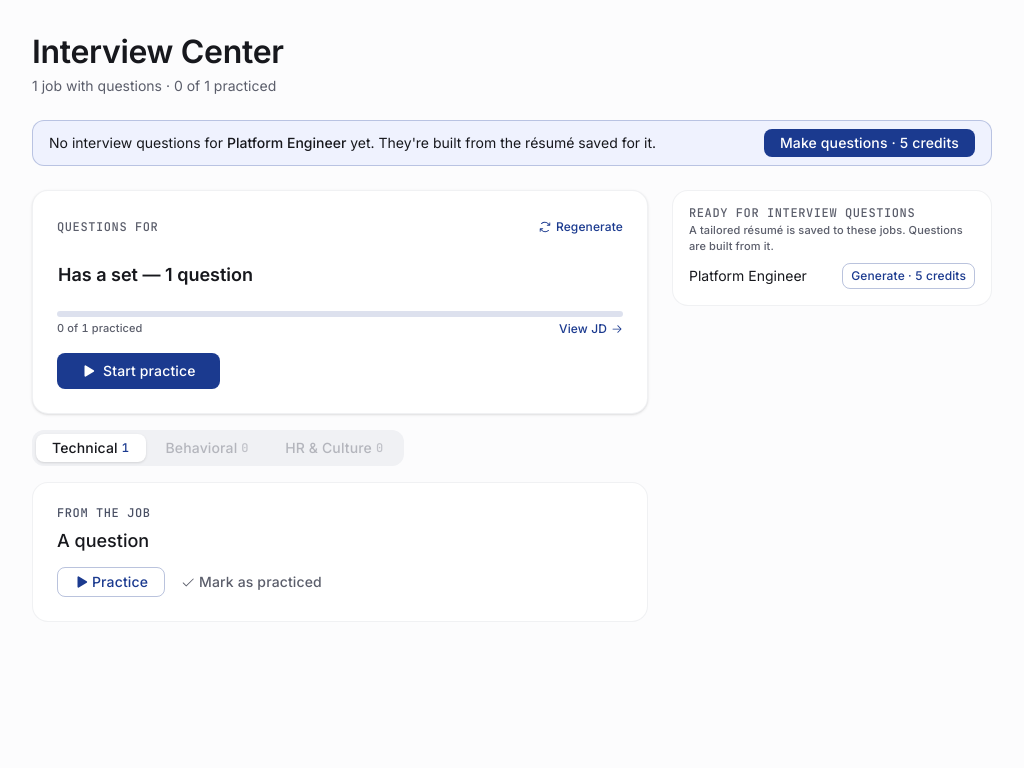
Test: InterviewIndexPage — linked to a job with no questions yet › says so first, and makes them through the same question
Expected: the element named "No questions for this job yet" shows "No interview questions for Platform Engineer yet", [32, 120, 992, 166]
Click the button "Make questions · 5 credits" at (869, 143), box [764, 129, 975, 157]
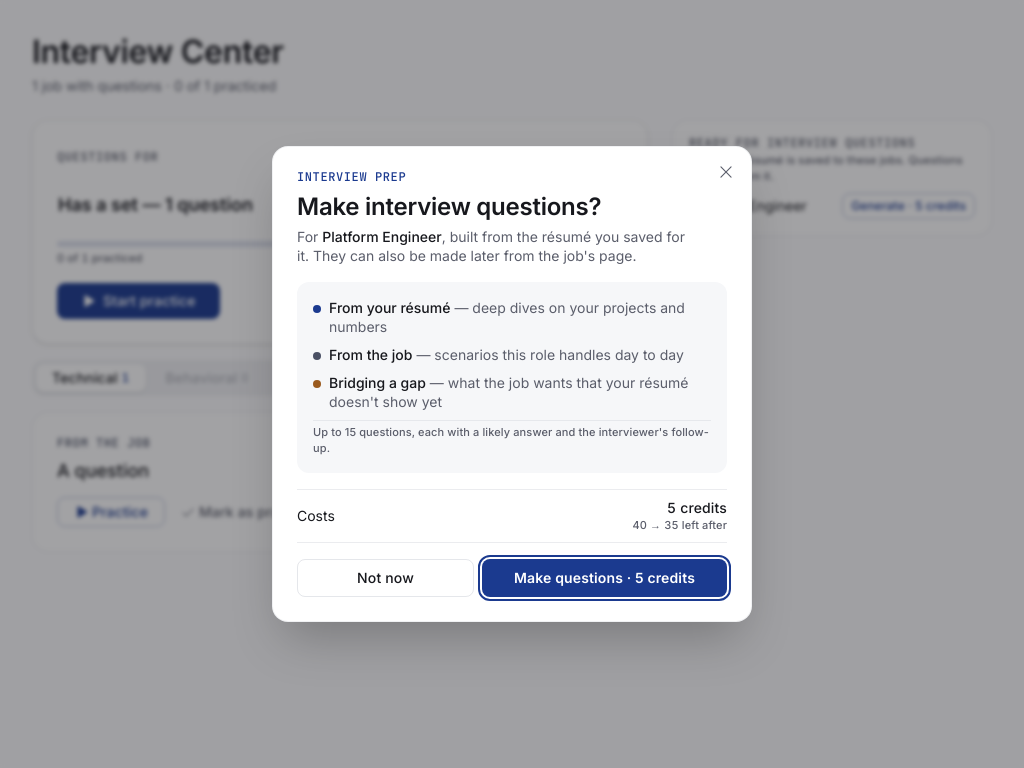
Expected: the dialog "Make interview questions?" is shown, [272, 146, 752, 622]
